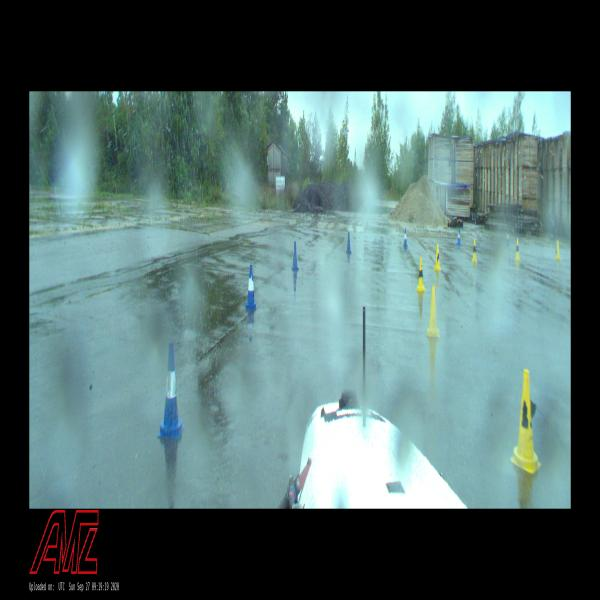blue_cone: (157, 342, 184, 439), (245, 265, 257, 310), (292, 241, 299, 271), (346, 232, 352, 254), (403, 228, 408, 247), (457, 228, 461, 245), (506, 229, 510, 245)
yellow_cone: (510, 369, 541, 474), (426, 286, 440, 337), (416, 257, 425, 291), (433, 244, 442, 271), (472, 239, 478, 263), (514, 238, 520, 260), (555, 240, 561, 260)
